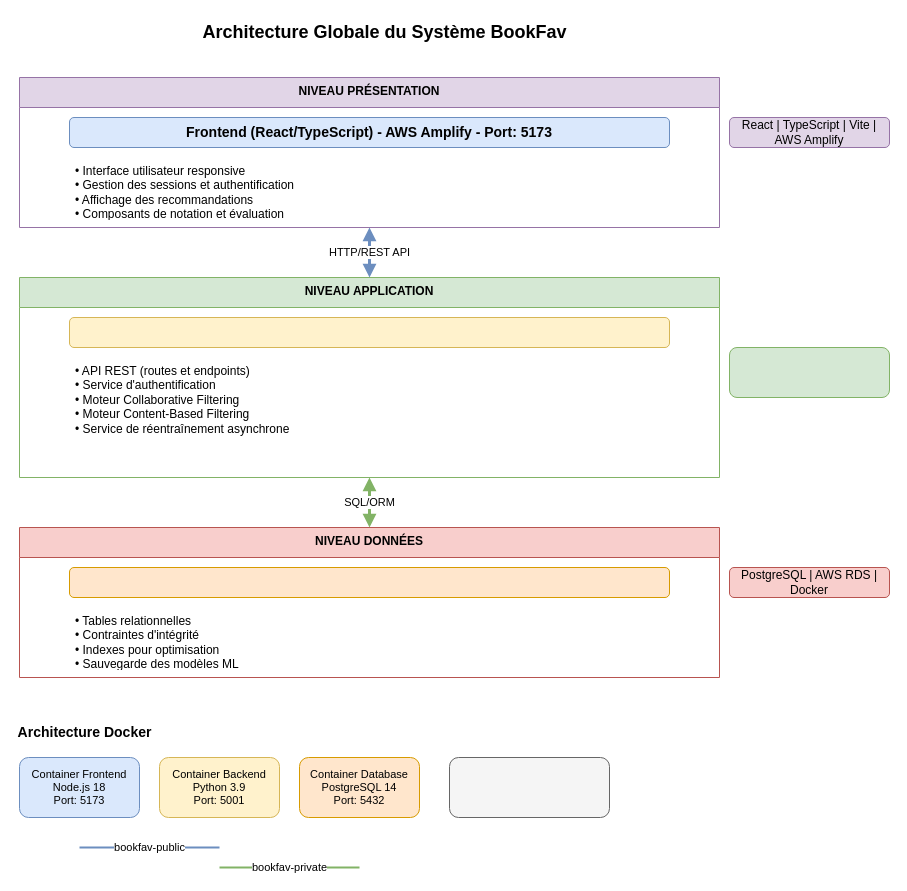
Image size: 907x891. Some labels were removed from this diagram. The centre of each missing label's shape, as x and y in pixels:
"Backend (Flask) - AWS Elastic Beanstalk - Port: 5001" belongs at (369,332).
"Base de Données PostgreSQL - AWS RDS - Port: 5432" belongs at (369,582).
"Flask | Python | TensorFlow | Scikit-learn | AWS Elastic Beanstalk" belongs at (809,372).
"Volumes Docker: • postgres-data • ./models:/app/models • ./data:/app/data" belongs at (529,787).
